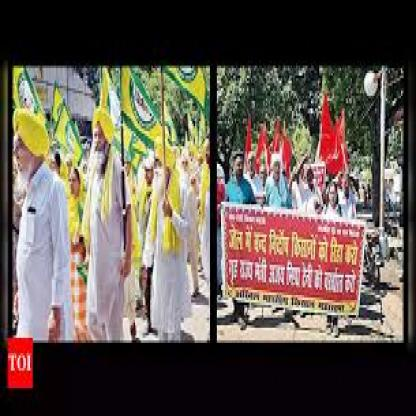BANNER: (220, 204, 367, 318)
